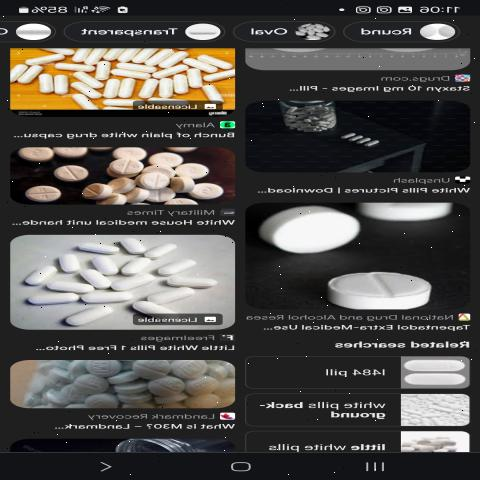Pill: (296, 257, 451, 315), (250, 202, 365, 256), (51, 298, 120, 330), (43, 159, 109, 183), (13, 264, 65, 291), (66, 239, 124, 260), (162, 270, 220, 290), (11, 184, 69, 202)
